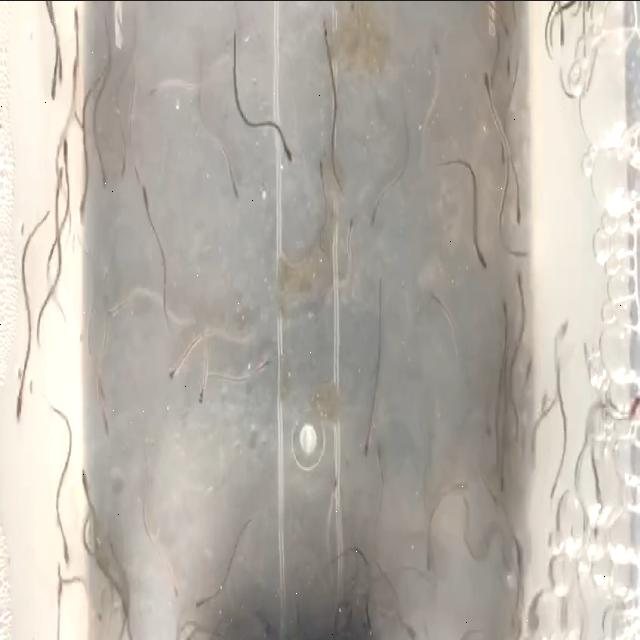active_glass_eel: (8, 369, 26, 434), (553, 301, 571, 354), (54, 38, 70, 90), (58, 520, 74, 572), (78, 462, 94, 512), (51, 562, 70, 604), (60, 130, 76, 178), (66, 0, 86, 38), (100, 405, 118, 447), (582, 338, 600, 380), (70, 50, 84, 100), (366, 198, 386, 232), (54, 148, 66, 202), (196, 376, 212, 416), (166, 355, 186, 385), (256, 346, 276, 376), (623, 388, 640, 423), (361, 424, 375, 466), (372, 434, 388, 470), (321, 14, 334, 58), (428, 34, 441, 78), (495, 294, 508, 338), (47, 60, 59, 107), (494, 462, 506, 509), (106, 291, 126, 319), (280, 135, 296, 169), (326, 468, 341, 504), (557, 6, 569, 50), (316, 152, 330, 189), (472, 240, 488, 272), (419, 284, 442, 306), (73, 192, 87, 228), (510, 260, 522, 302), (512, 193, 524, 235), (232, 160, 244, 201), (500, 45, 512, 85), (481, 62, 493, 102), (482, 413, 496, 447), (117, 144, 129, 183), (191, 590, 209, 616), (168, 568, 182, 600), (138, 173, 150, 210), (344, 209, 356, 244), (94, 366, 106, 400), (500, 128, 510, 168), (524, 348, 534, 388), (90, 598, 103, 628), (98, 156, 110, 188), (365, 602, 375, 640), (424, 540, 434, 578), (500, 16, 512, 43), (148, 76, 161, 98)
